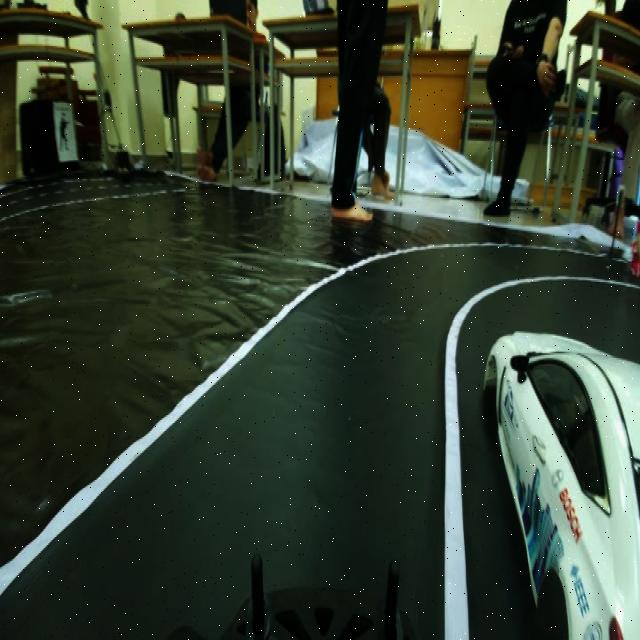car: (500, 288, 640, 640)
